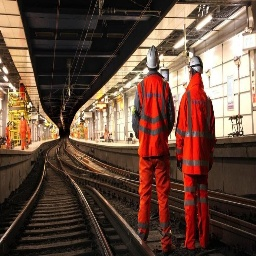helmet: (143, 43, 162, 77), (188, 56, 204, 78)
person: (131, 41, 177, 255), (178, 56, 217, 255)
vest: (178, 71, 217, 177), (131, 74, 173, 159)
